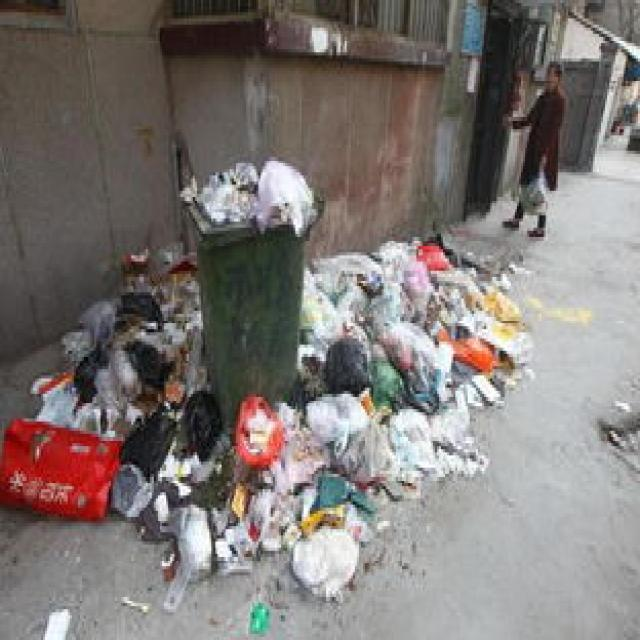garbage: (0, 234, 531, 637)
overflow: (176, 153, 322, 424)
